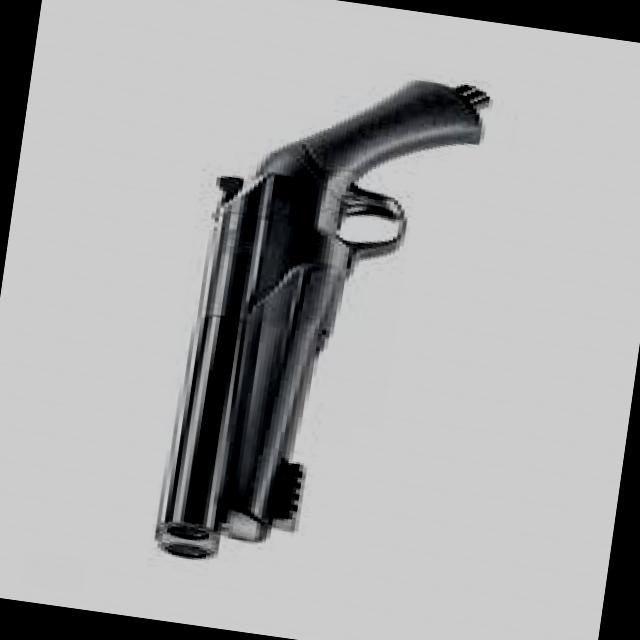long weapon: (122, 85, 518, 585)
